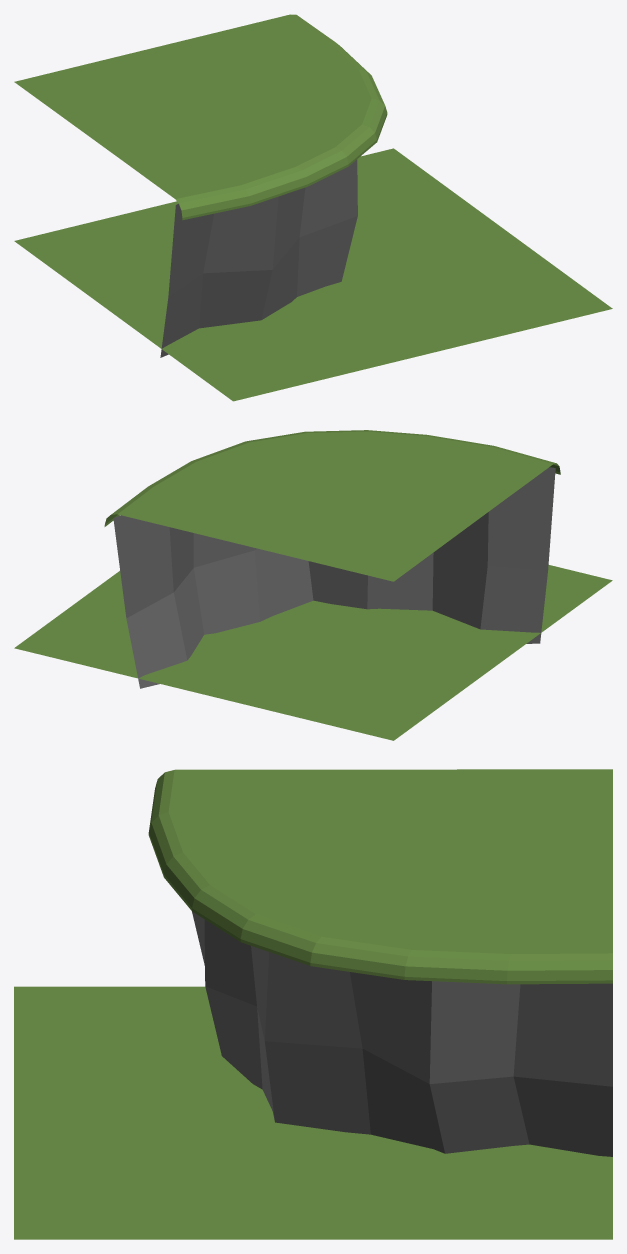
Rendered from cliff_outer_corner.fbx.
3 views of the same model, one above another, from view 1: azimuth 30°, elevation 25°; view 2: azimuth 150°, elevation 25°; view 3: azimuth 270°, elevation 25° (orthographic). The views are drawn at different scales.
Visible parts, largest first — view 1: Cube.037; view 2: Cube.037; view 3: Cube.037.
Boxes of the visible parts, x1=… form: Cube.037: x1=14, y1=14, x2=612, y2=401; Cube.037: x1=14, y1=430, x2=612, y2=740; Cube.037: x1=14, y1=769, x2=612, y2=1239.
Size of the model in its own units: 200 by 200 by 92.09.
